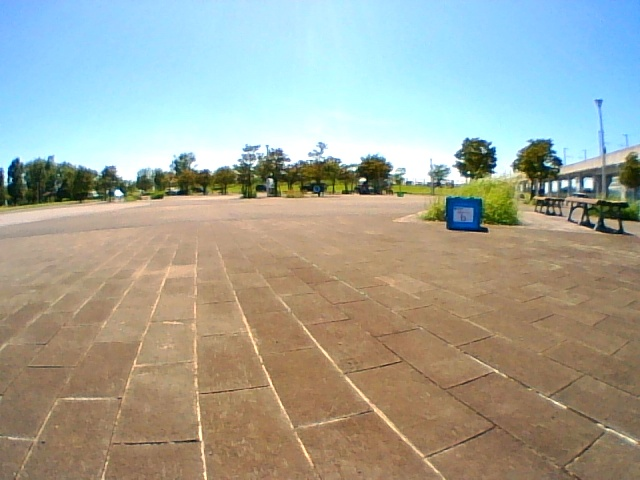blue_box: (446, 198, 480, 230)
tag_b: (454, 207, 473, 222)
